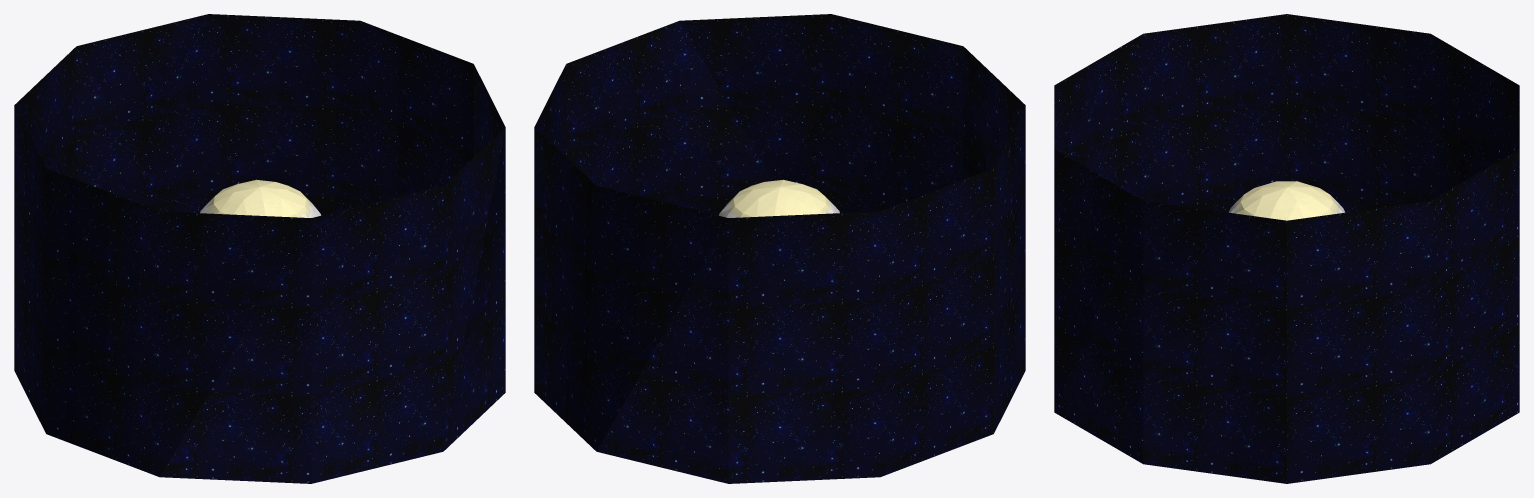
File: Chao Lobby (Version 3 - Hero).obj
3 renders of one model, left to right at view 1: azimuth 30°, elevation 25°; view 2: azimuth 150°, elevation 25°; view 3: azimuth 270°, elevation 25°, orthographic.
Parts seen in each view (by area): view 1: Mesh_0065; view 2: Mesh_0065; view 3: Mesh_0065.
Boxes of the visible parts, x1,y1,x2,y2 form: Mesh_0065: [14, 14, 505, 483]; Mesh_0065: [534, 14, 1025, 483]; Mesh_0065: [1054, 14, 1519, 483].
Size of the model in its own units: 120 by 71.29 by 114.
Materials: 17 (17 with a texture image).
